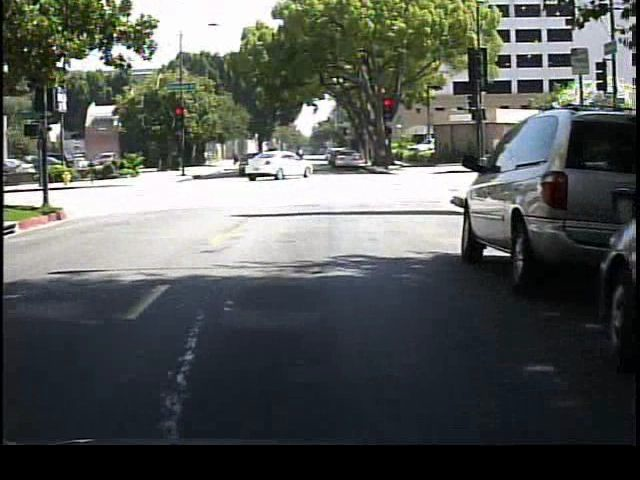person: (292, 142, 309, 176)
